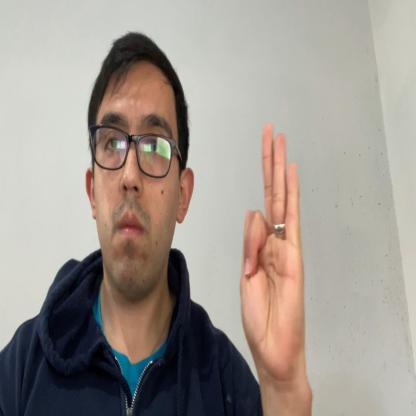F: (240, 125, 304, 376)
